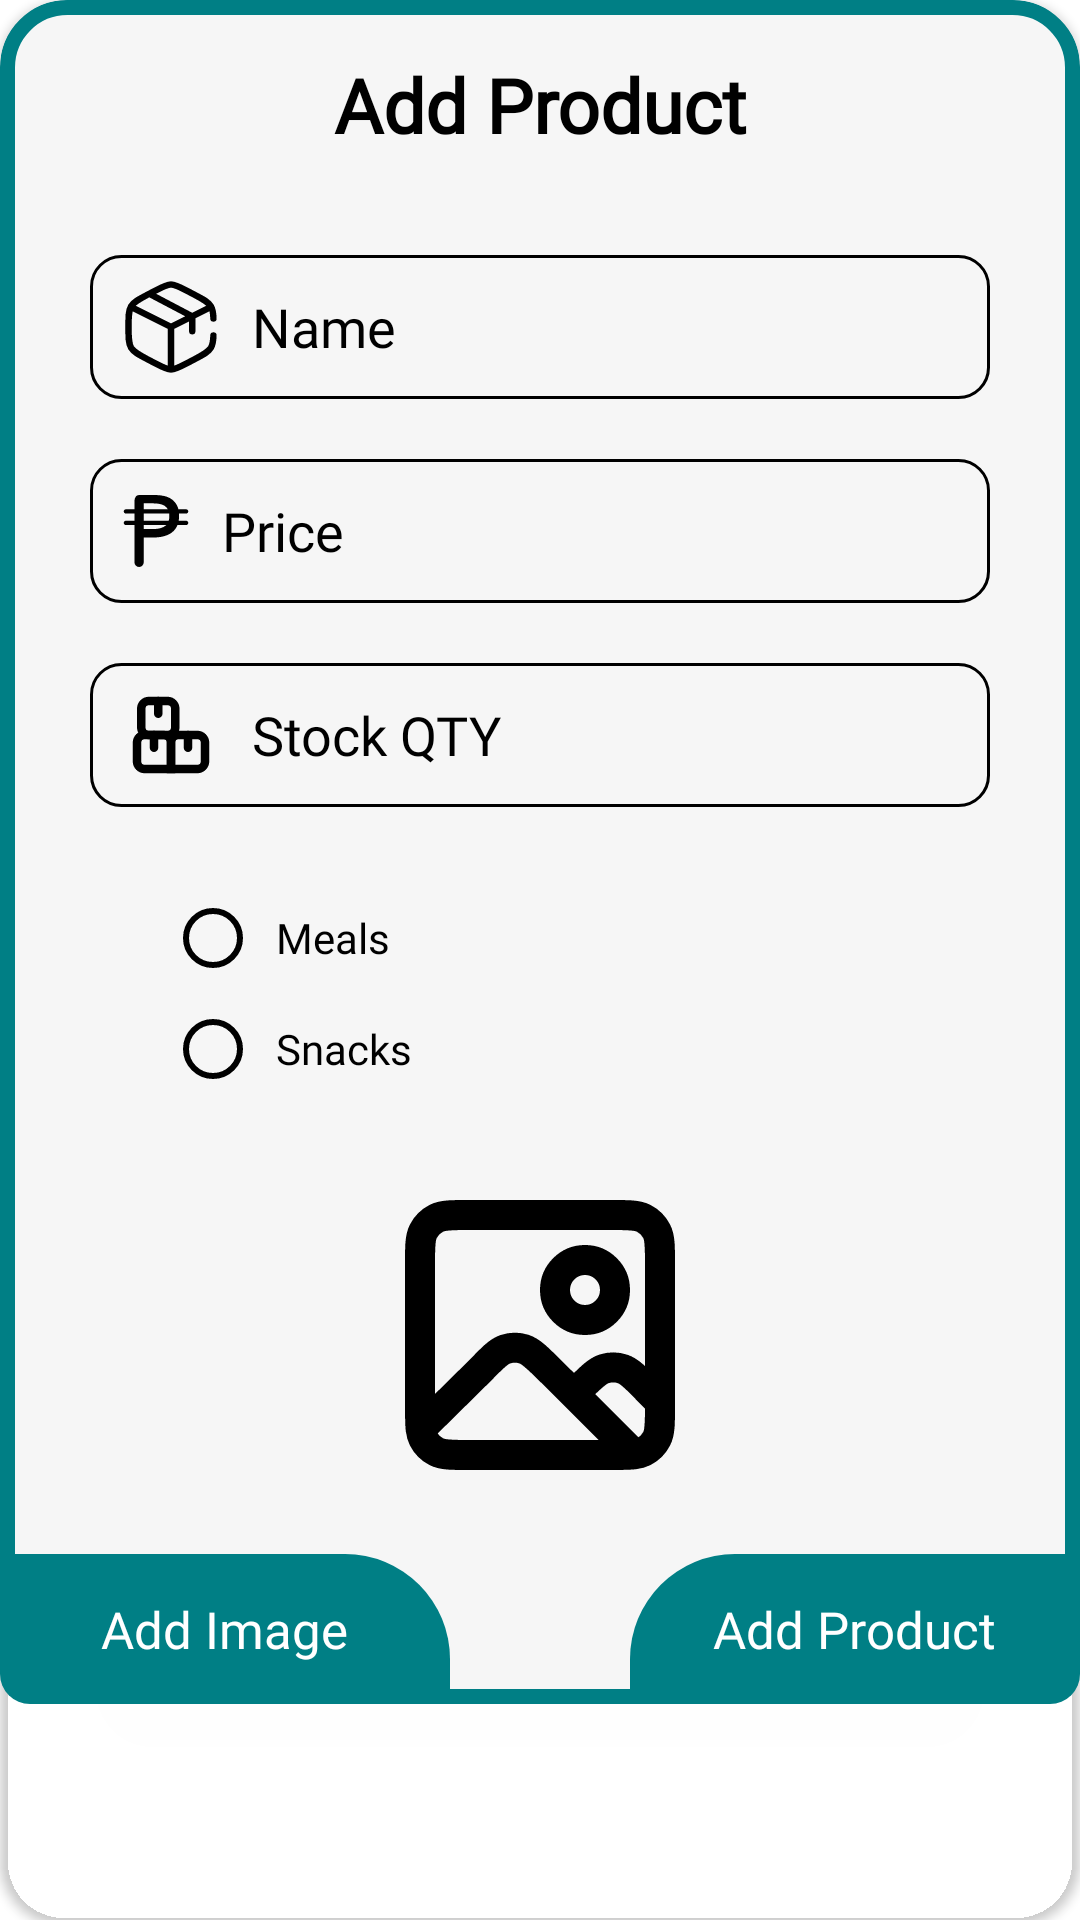

Named icons in this screenshot (1080px×1920px) and their bounding boxes, (x1,y1,x2,y2):
picplaceholder: (405,1200,675,1470)
